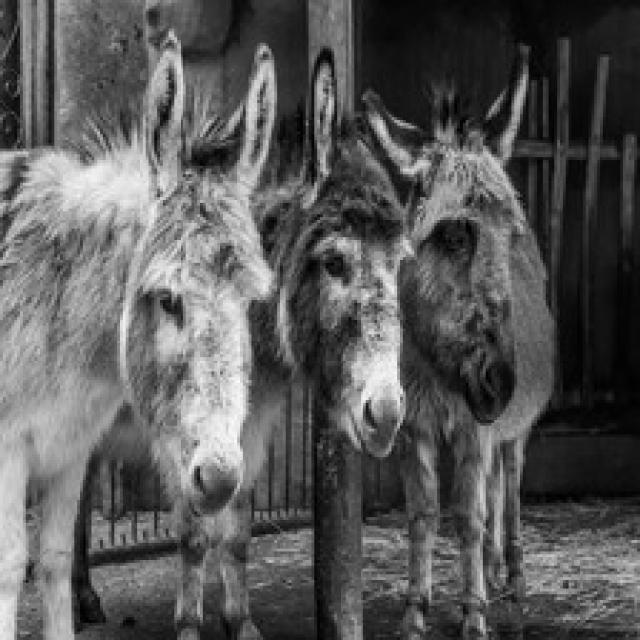Donkey: (72, 43, 414, 637), (0, 26, 280, 637), (357, 43, 557, 637)
